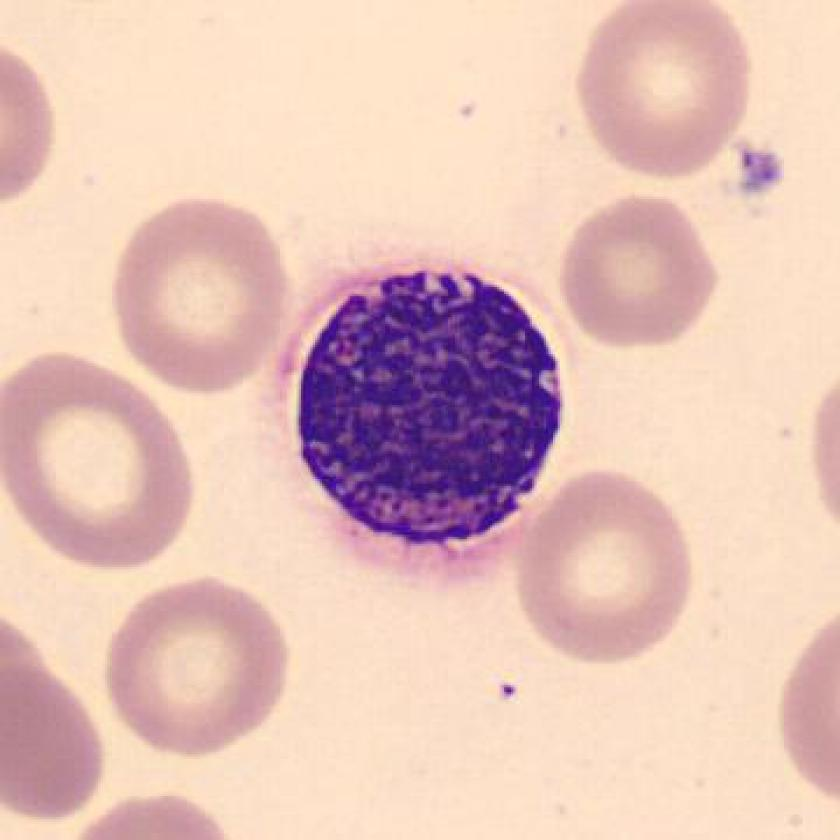basophil: (283, 262, 573, 545)
